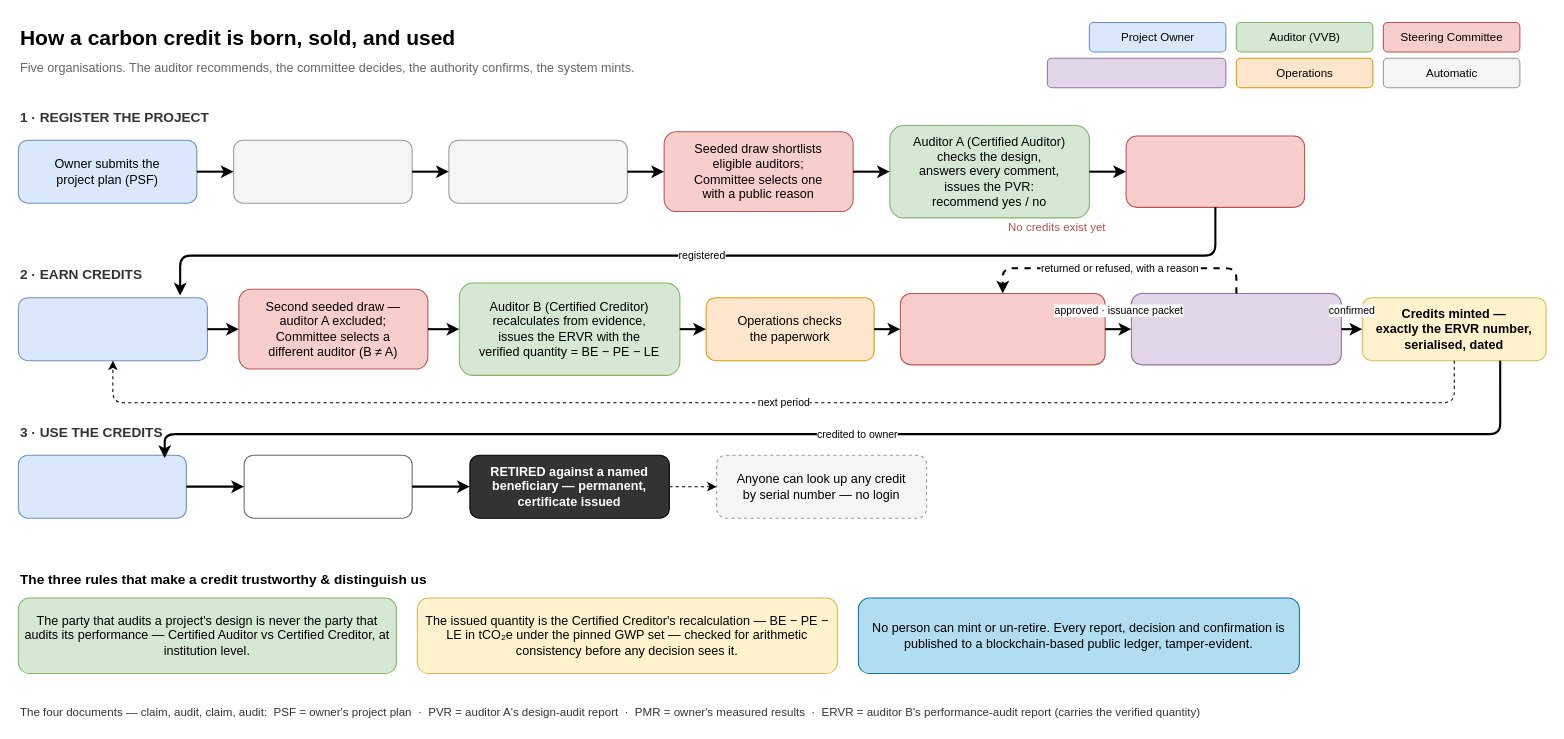
This 1564x739 diagram has some shape labels left out. The shapes that lost their labels are listed below. From the top down, each one's centre as x and y in pixels, then its label:
At [1136,72]: "Competent Authority (MoECC)".
At [322,171]: "Completeness check — presence & schema only, not a judgment".
At [537,171]: "Public can comment for a fixed window".
At [1215,171]: "Committee decides: project REGISTERED — crediting period fixed".
At [112,329]: "Owner operates, measures, reports the results (PMR)".
At [1002,328]: "Steering's Creditor Committee approves issuance (yes / no only)".
At [1235,328]: "Competent Authority (MoECC): confirms or refuses the issuance packet".
At [101,486]: "Owner holds them".
At [327,486]: "Carbon Market".
